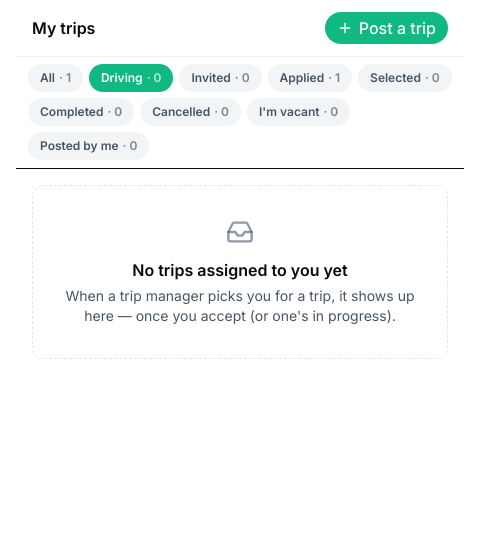
Test case: DriverActivityPage › an "applied" row where another driver is already locked in shows the "another driver was selected" banner
The width and height of the screenshot is (481, 536).
Click the button "Applied · 1" at {"x": 310, "y": 78}, box [268, 64, 352, 92]
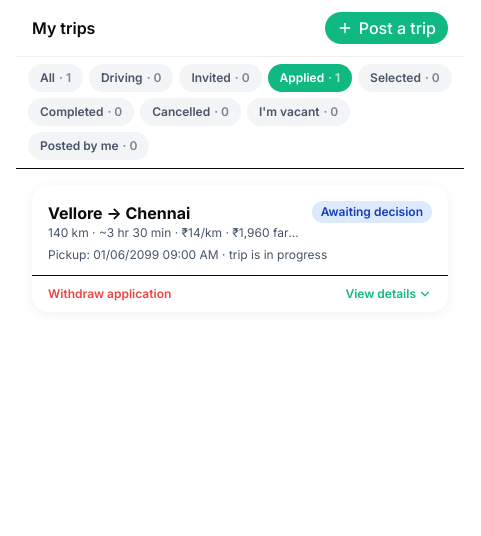
Click the button "View details" at {"x": 389, "y": 294}, box [346, 286, 432, 302]
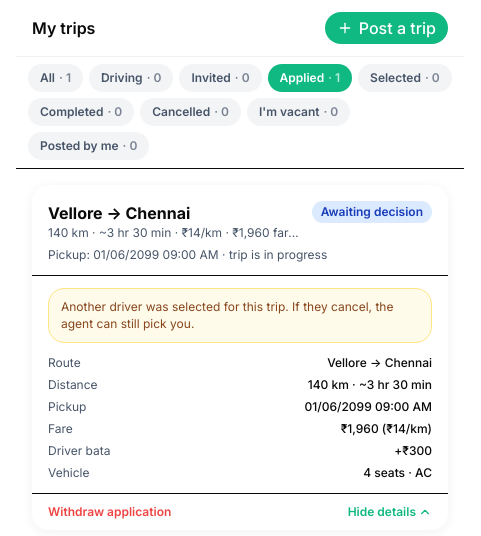
Now the text "Another driver was selected for this trip" is shown, box [61, 299, 394, 330]
